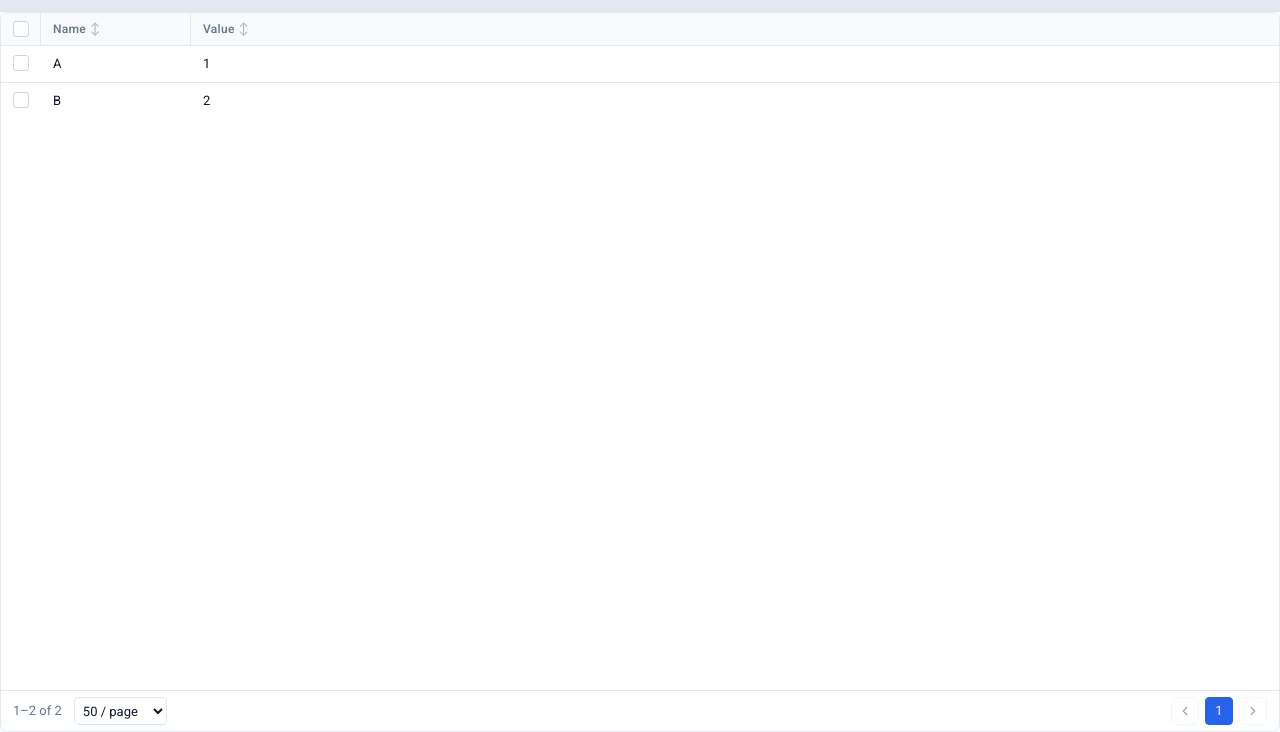
Test case: DataTable contracts › row selection: header checkbox selects and clears all selectable rendered rows
Click the checkbox named "Select all rows". click: [20, 29]
box: [12, 21, 28, 37]
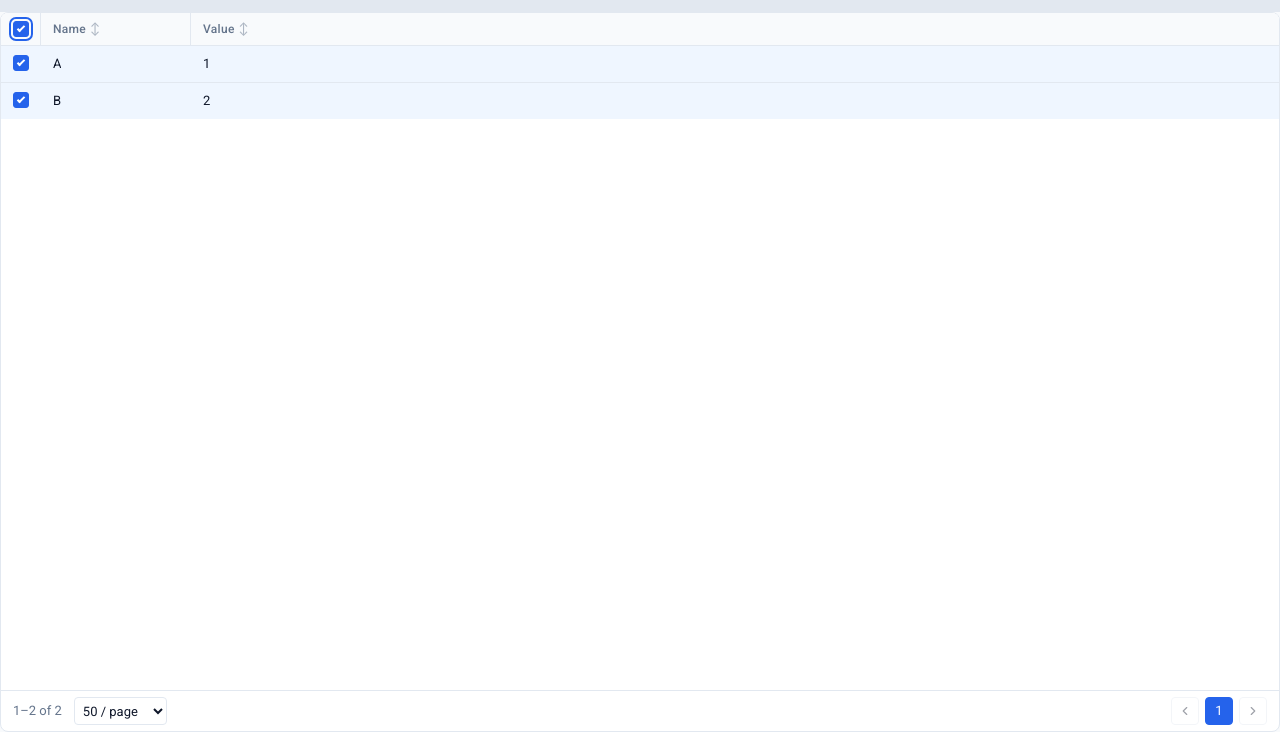
expect the 1st checkbox named "Select row" is checked: met, box [13, 55, 29, 71]
expect the 2nd checkbox named "Select row" is checked: met, box [13, 92, 29, 108]
Click the checkbox named "Select all rows". click: [20, 29]
box: [12, 21, 28, 37]
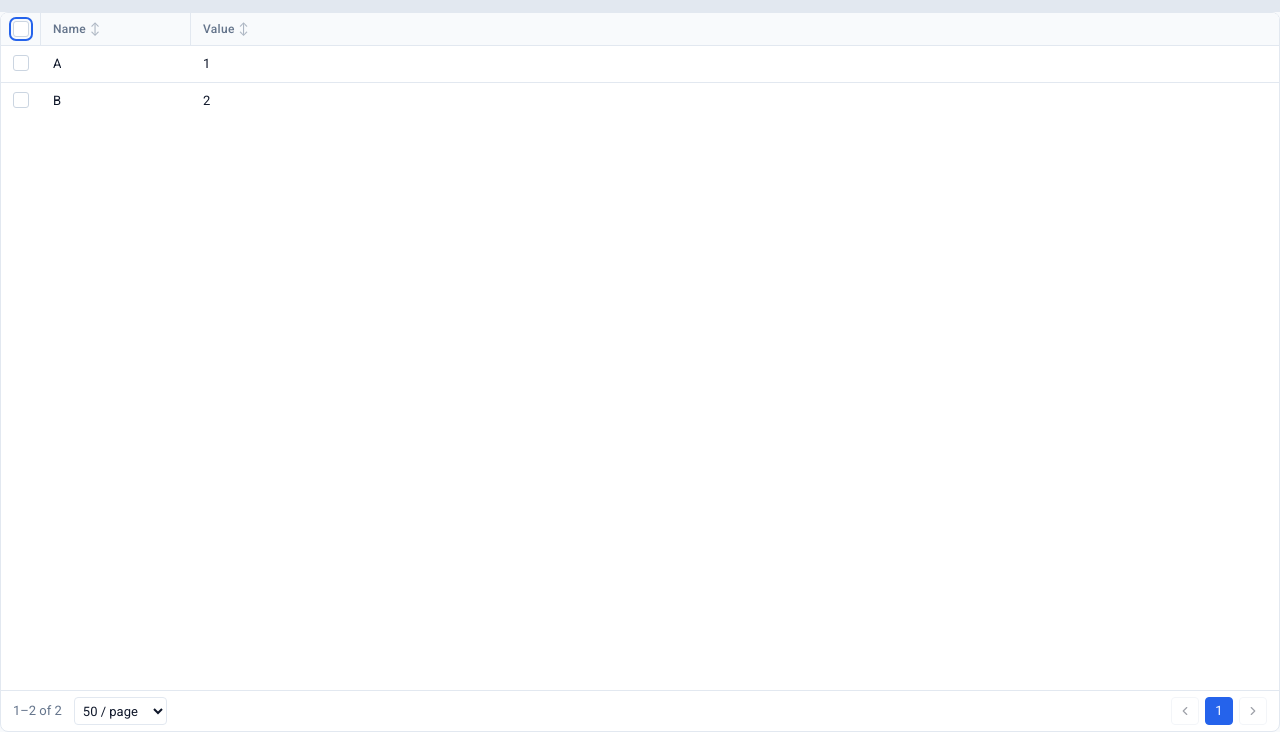
expect the 1st checkbox named "Select row" is not checked: met, box [13, 55, 29, 71]
expect the 2nd checkbox named "Select row" is not checked: met, box [13, 92, 29, 108]
